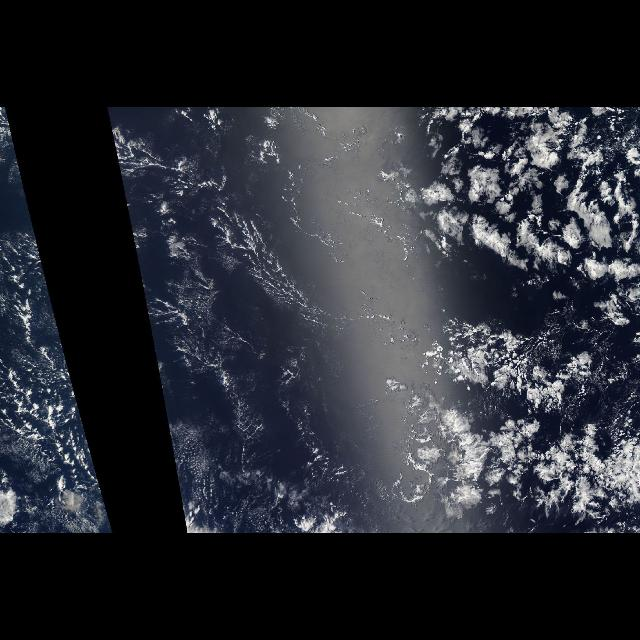Flower: (374, 108, 640, 520)
Sugar: (115, 110, 357, 502)
